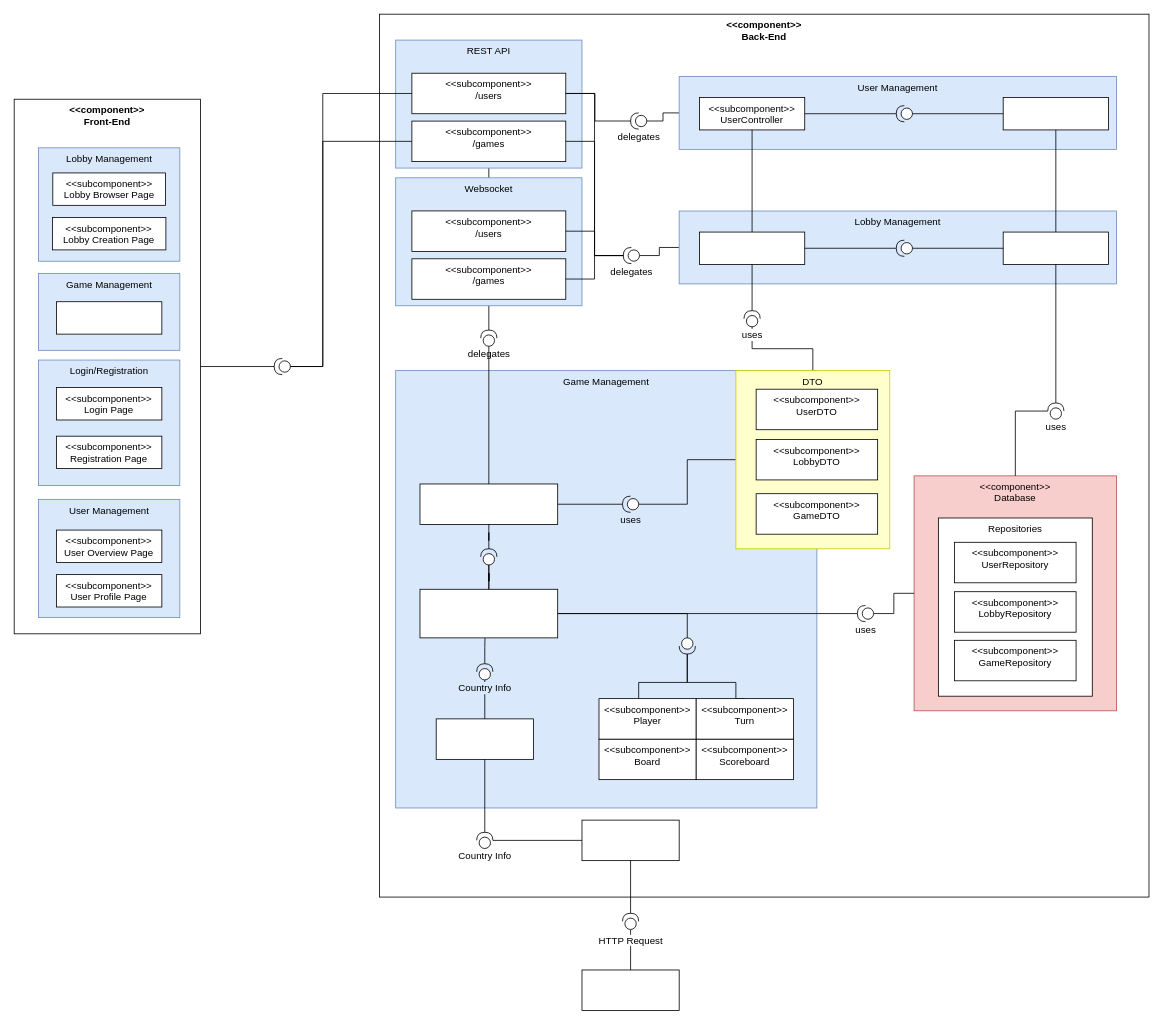
This 1163x1025 diagram has some shape labels left out. The shapes that lost their labels are listed below. From the top down, each one's centre as x and y in pixels, then its label:
(x=903, y=113): User Service
(x=1055, y=113): <<subcomponent>> UserService
(x=752, y=247): <<subcomponent>> LobbyController
(x=903, y=247): Lobby Service
(x=1055, y=247): <<subcomponent>> LobbyService
(x=109, y=317): <<subcomponent>> Ingame Page
(x=281, y=366): HTTP Request GET/POST/PUT/UPDATE
(x=488, y=503): <<subcomponent>> GameController
(x=488, y=556): Game Service
(x=488, y=613): <<subcomponent>> GameService
(x=686, y=645): Game Details
(x=484, y=738): <<subcomponent>> Guesscard
(x=630, y=840): <<subcomponent>> CountryDatabase
(x=630, y=989): <<component>> External API
